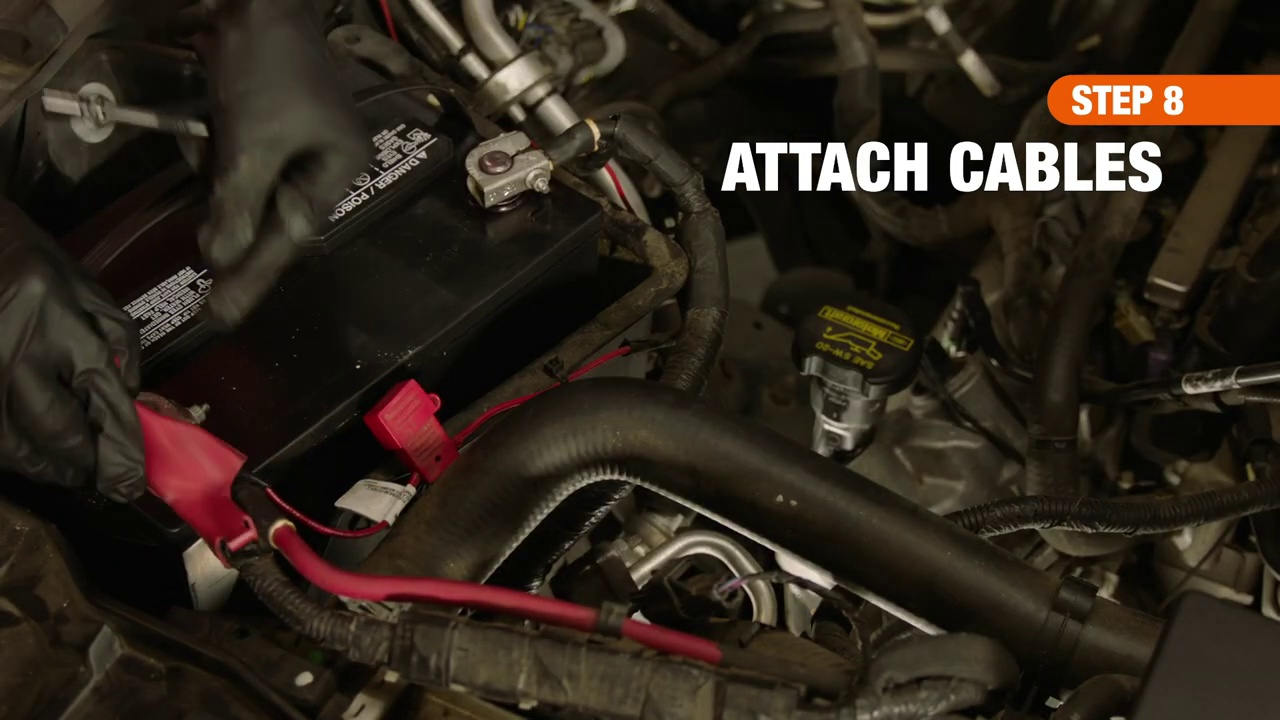battery: (19, 43, 602, 578)
neg_connected: (446, 83, 582, 228)
pos_touched: (1, 258, 234, 582)
